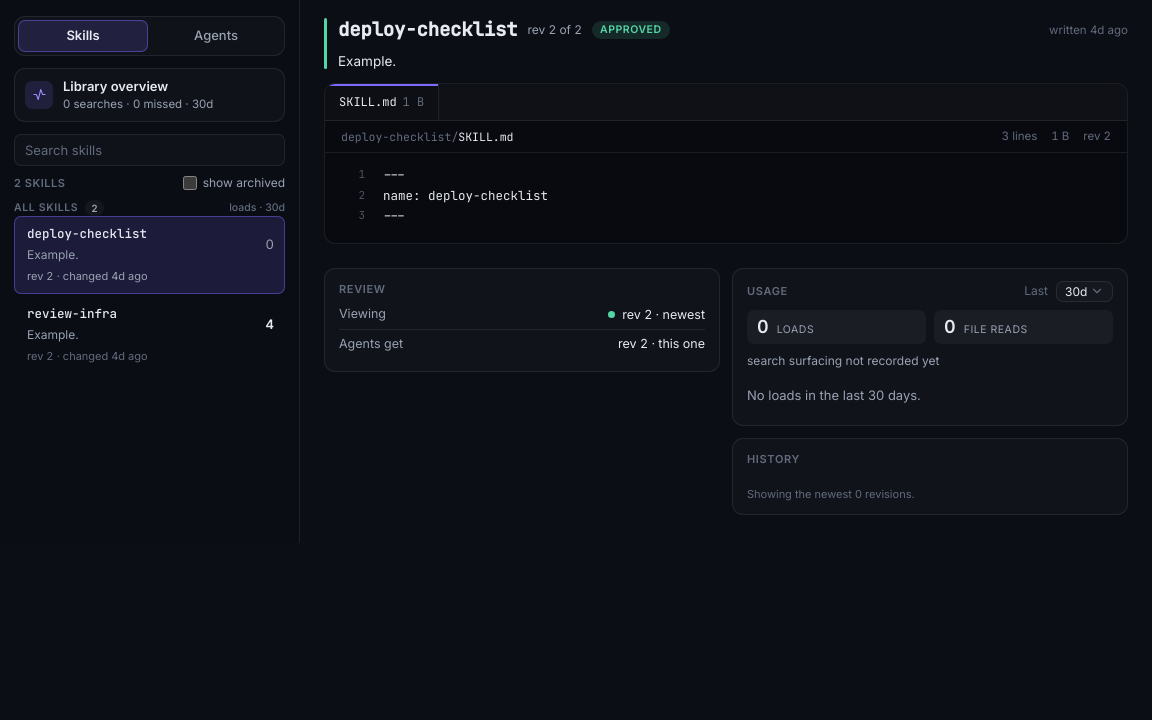
Test: SkillsPage › selecting a skill sets ?skill= and drops ?rev=
The width and height of the screenshot is (1152, 720).
Click the text "review-infra". click: (72, 314)
box: [27,305,117,322]
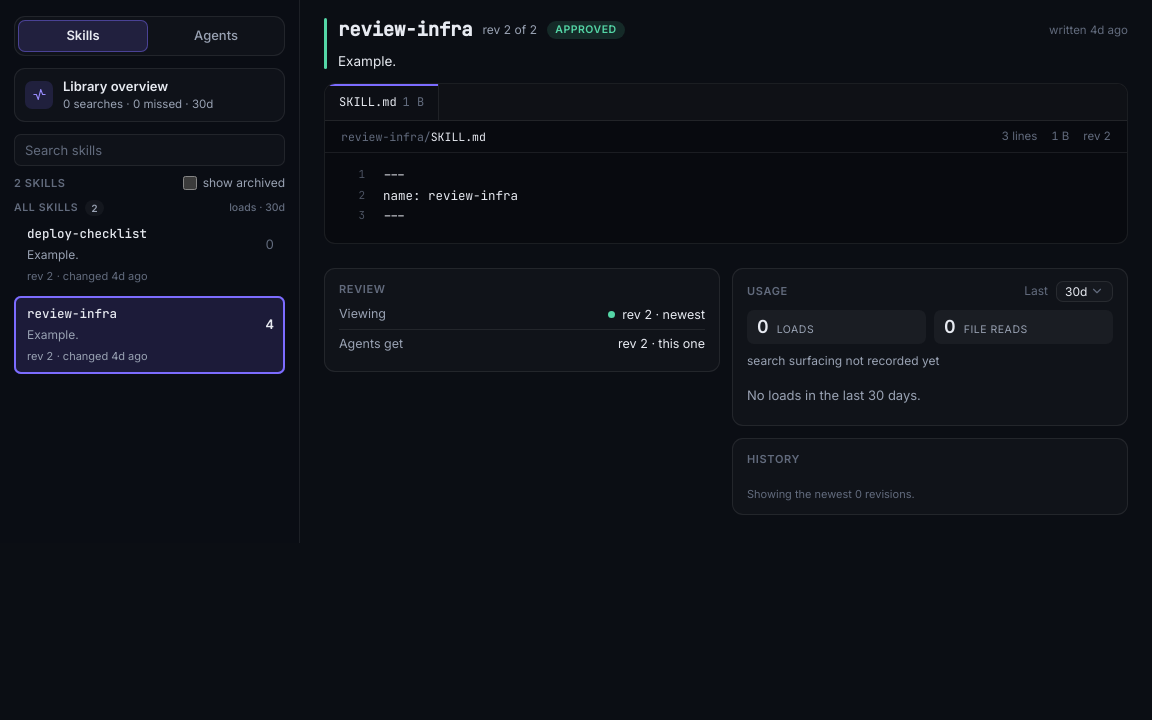
Result: the heading "review-infra" is shown at [338,16,472,44]
